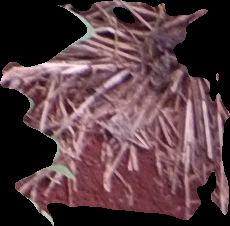soil: (1, 1, 229, 225)
